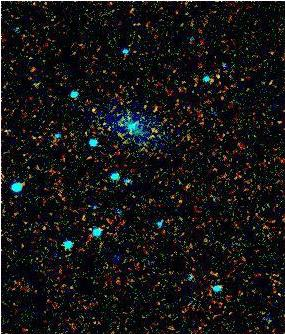star: (80, 95, 110, 125)
